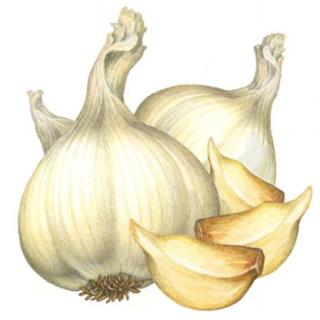Bawang Putih: (17, 108, 222, 294), (134, 82, 277, 218), (131, 217, 266, 312), (196, 186, 313, 279)
